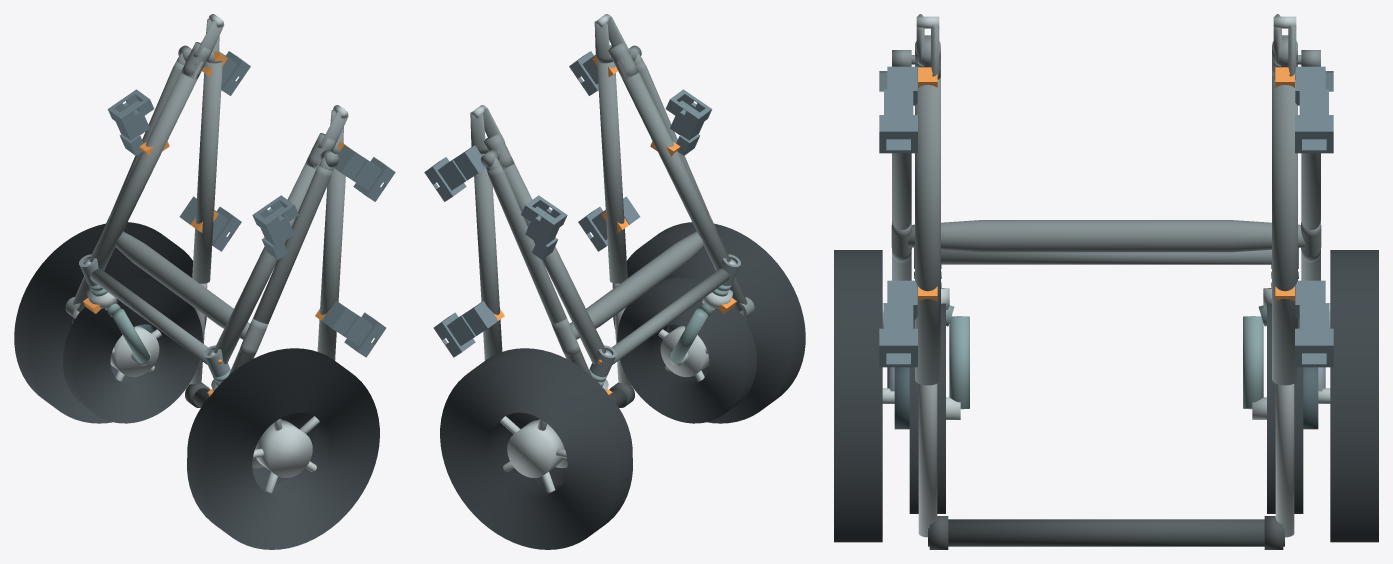
Rendered from w550_state3_wheel_L.glb.
The picture shows the model from 3 angles, left to right: view 1: azimuth 30°, elevation 25°; view 2: azimuth 150°, elevation 25°; view 3: azimuth 270°, elevation 25°; orthographic projection. The views are drawn at different scales.
Parts seen in each view (by area): view 1: RL_tire.004, FR_tire.004, RR_tire.004, main_upper_1.005, main_lower_1.005, V46_rearbar.005, main_upper_-1.005, V46_rear_leg_-1.005, main_lower_-1.005, RL_sealed_hub.004, front_fixed_round_tube.004, Universal_Cabin_Receiver_H_-1 (+12 smaller); view 2: RR_tire.004, FL_tire.004, RL_tire.004, main_upper_-1.005, main_lower_-1.005, V46_rearbar.005, main_upper_1.005, V46_rear_leg_1.005, main_lower_1.005, RR_sealed_hub.004, front_fixed_round_tube.004, Universal_Cabin_Receiver_H_1 (+15 smaller); view 3: RL_tire.004, RR_tire.004, V46_rearbar.005, round_handle.004, main_upper_1.005, main_upper_-1.005, front_fixed_round_tube.004, Universal_Cabin_Receiver_H_1, Universal_Cabin_Receiver_H_-1, Universal_Cabin_Receiver_M_-1, Universal_Cabin_Receiver_M_1, FL_tire.004 (+11 smaller).
Boxes of the visible parts, x1,y1,x2,y2 form: RL_tire.004: (187, 348, 379, 549); FR_tire.004: (63, 277, 202, 423); RR_tire.004: (14, 222, 206, 423); main_upper_1.005: (192, 61, 222, 283); main_lower_1.005: (89, 61, 203, 270); V46_rearbar.005: (115, 231, 249, 339); main_upper_-1.005: (317, 154, 345, 360); V46_rear_leg_-1.005: (228, 166, 332, 375); main_lower_-1.005: (213, 160, 321, 364); RL_sealed_hub.004: (255, 420, 312, 477); front_fixed_round_tube.004: (90, 268, 207, 364); Universal_Cabin_Receiver_H_-1: (321, 301, 386, 357); RR_tire.004: (440, 348, 632, 549); FL_tire.004: (617, 277, 756, 423); RL_tire.004: (613, 222, 805, 423); main_upper_-1.005: (597, 61, 627, 283); main_lower_-1.005: (616, 61, 730, 270); V46_rearbar.005: (570, 231, 704, 339); main_upper_1.005: (474, 154, 502, 360); V46_rear_leg_1.005: (487, 165, 591, 375); main_lower_1.005: (498, 160, 606, 364); RR_sealed_hub.004: (507, 420, 564, 477); front_fixed_round_tube.004: (612, 268, 729, 364); Universal_Cabin_Receiver_H_1: (433, 301, 498, 357); RL_tire.004: (834, 250, 882, 542); RR_tire.004: (1330, 250, 1378, 542); V46_rearbar.005: (907, 220, 1305, 252); round_handle.004: (928, 519, 1284, 546); main_upper_1.005: (1272, 76, 1297, 385); main_upper_-1.005: (915, 76, 940, 385); front_fixed_round_tube.004: (941, 249, 1271, 264); Universal_Cabin_Receiver_H_1: (1295, 280, 1333, 367); Universal_Cabin_Receiver_H_-1: (879, 280, 917, 367); Universal_Cabin_Receiver_M_-1: (879, 66, 917, 153); Universal_Cabin_Receiver_M_1: (1295, 66, 1333, 153); FL_tire.004: (909, 303, 945, 513).
Size of the model in its own units: 0.4241 by 0.7725 by 0.671.
